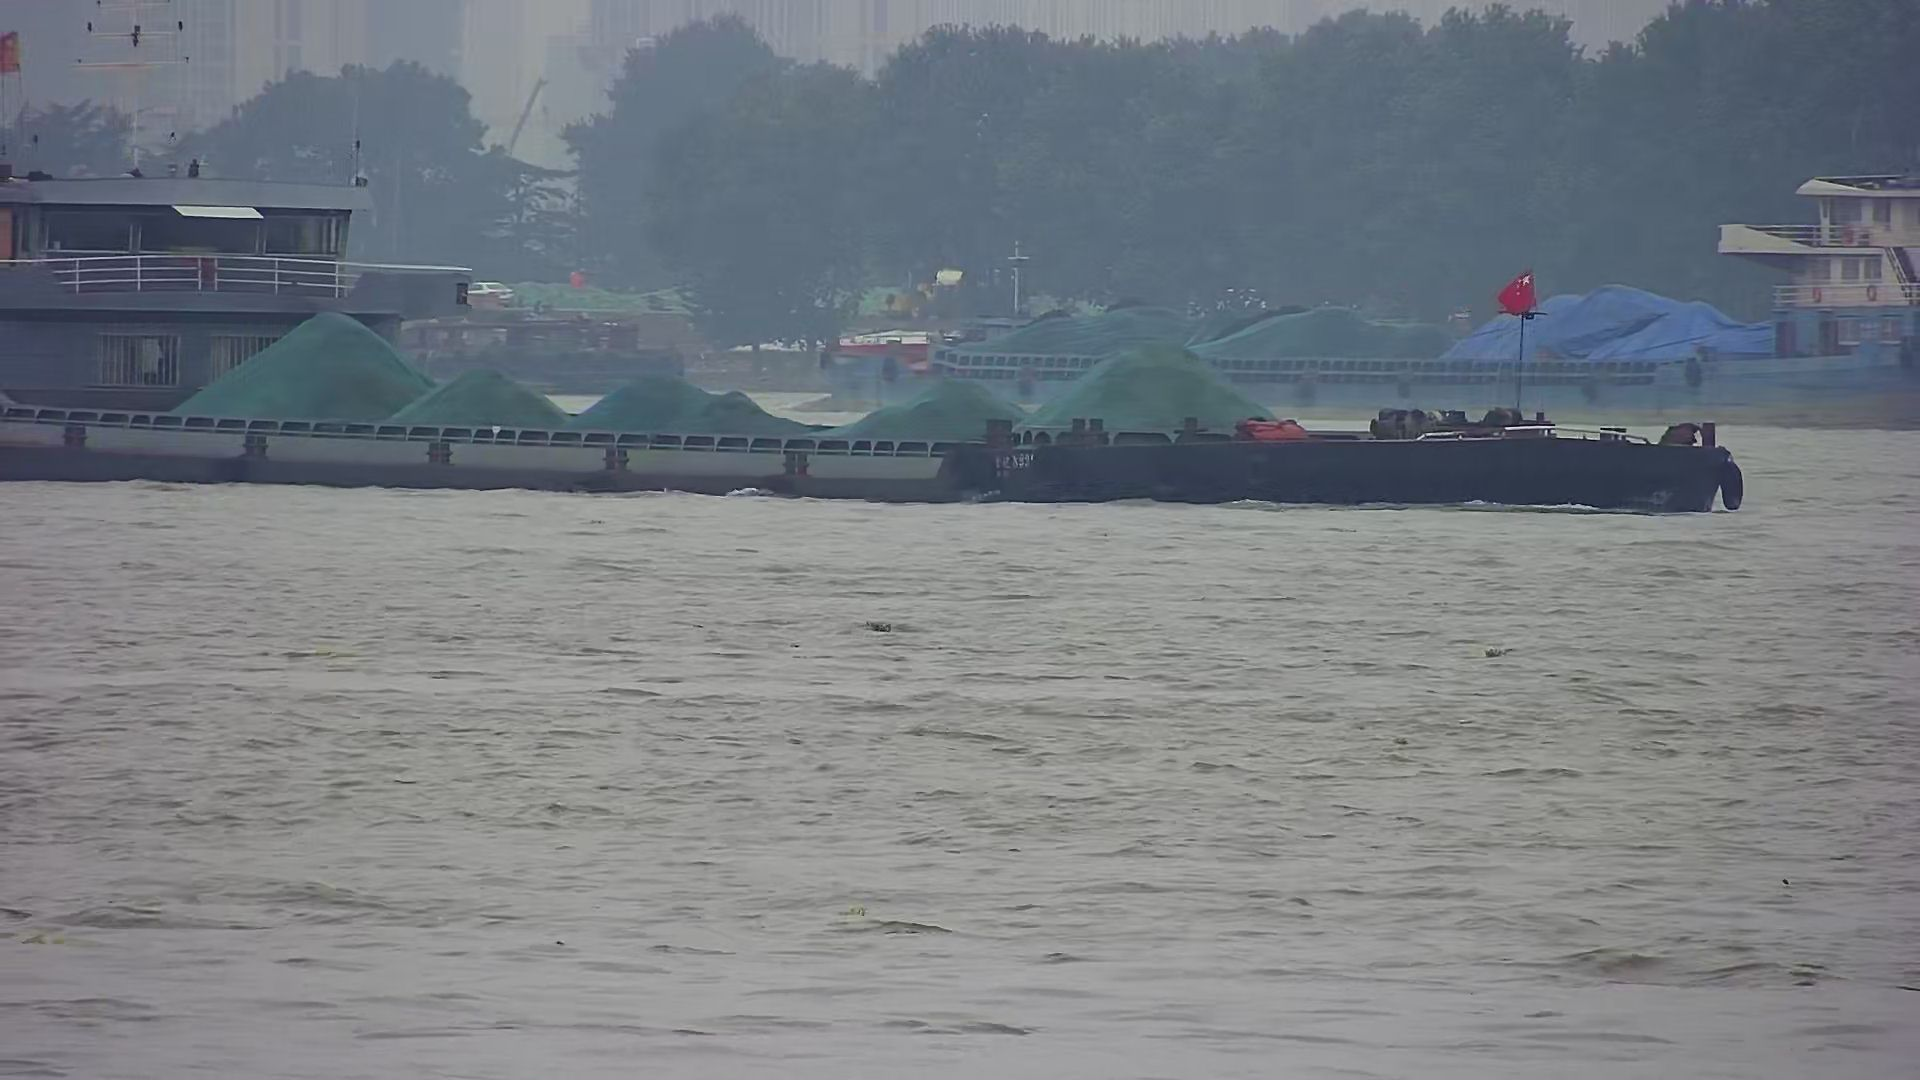ship: (1, 156, 1772, 527), (810, 301, 1920, 431), (385, 265, 713, 393)
